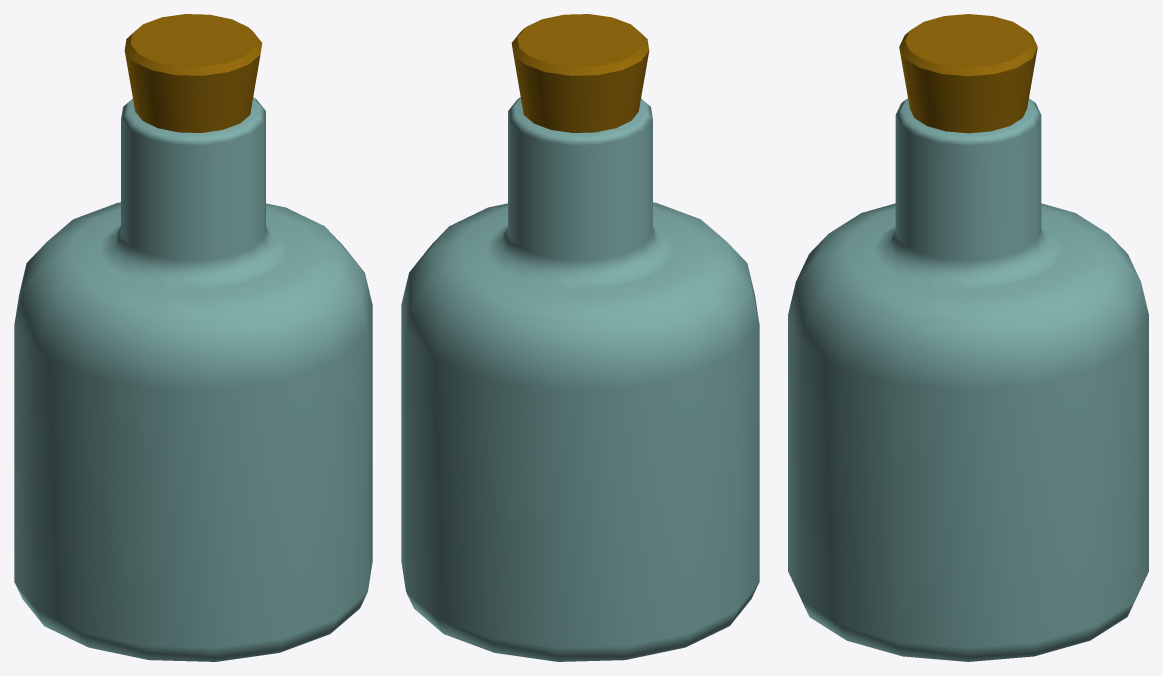
File: SM_Bottle_01a.fbx
3 renders of one model, left to right at view 1: azimuth 30°, elevation 25°; view 2: azimuth 150°, elevation 25°; view 3: azimuth 270°, elevation 25°, orthographic.
Parts seen in each view (by area): view 1: SM_Bottle_01a; view 2: SM_Bottle_01a; view 3: SM_Bottle_01a.
Boxes of the visible parts, box(x1,y1,x2,y2) form: SM_Bottle_01a: box(14, 14, 372, 661); SM_Bottle_01a: box(401, 14, 759, 661); SM_Bottle_01a: box(788, 14, 1148, 661).
Bounding box in the file's own units: 9.92 × 16.86 × 9.92.
